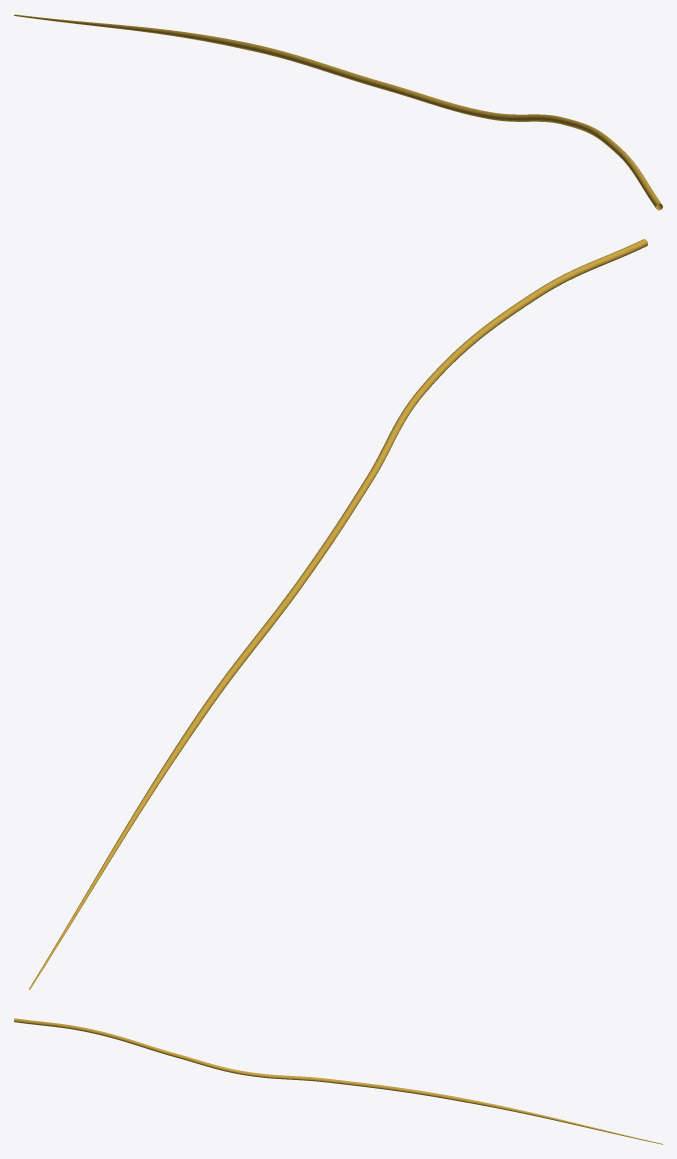
3 renders of one model, top to bottom at view 1: azimuth 30°, elevation 25°; view 2: azimuth 150°, elevation 25°; view 3: azimuth 270°, elevation 25°, orthographic. The views are drawn at different scales.
Parts seen in each view (by area): view 1: 右侧骨间后神经; view 2: 右侧骨间后神经; view 3: 右侧骨间后神经.
Part boxes in pixels (x1,y1,x2,y2): 右侧骨间后神经: (14,14,662,210); 右侧骨间后神经: (29,239,647,989); 右侧骨间后神经: (14,1018,662,1144).
Bounding box in the file's own units: 0.0211 × 0.0562 × 0.2465.
